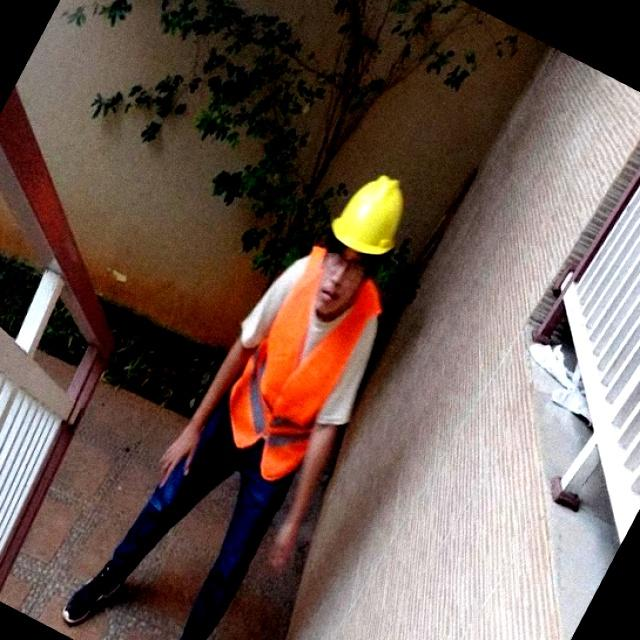helmet: (324, 173, 409, 257)
safety_vest: (228, 240, 386, 490)
